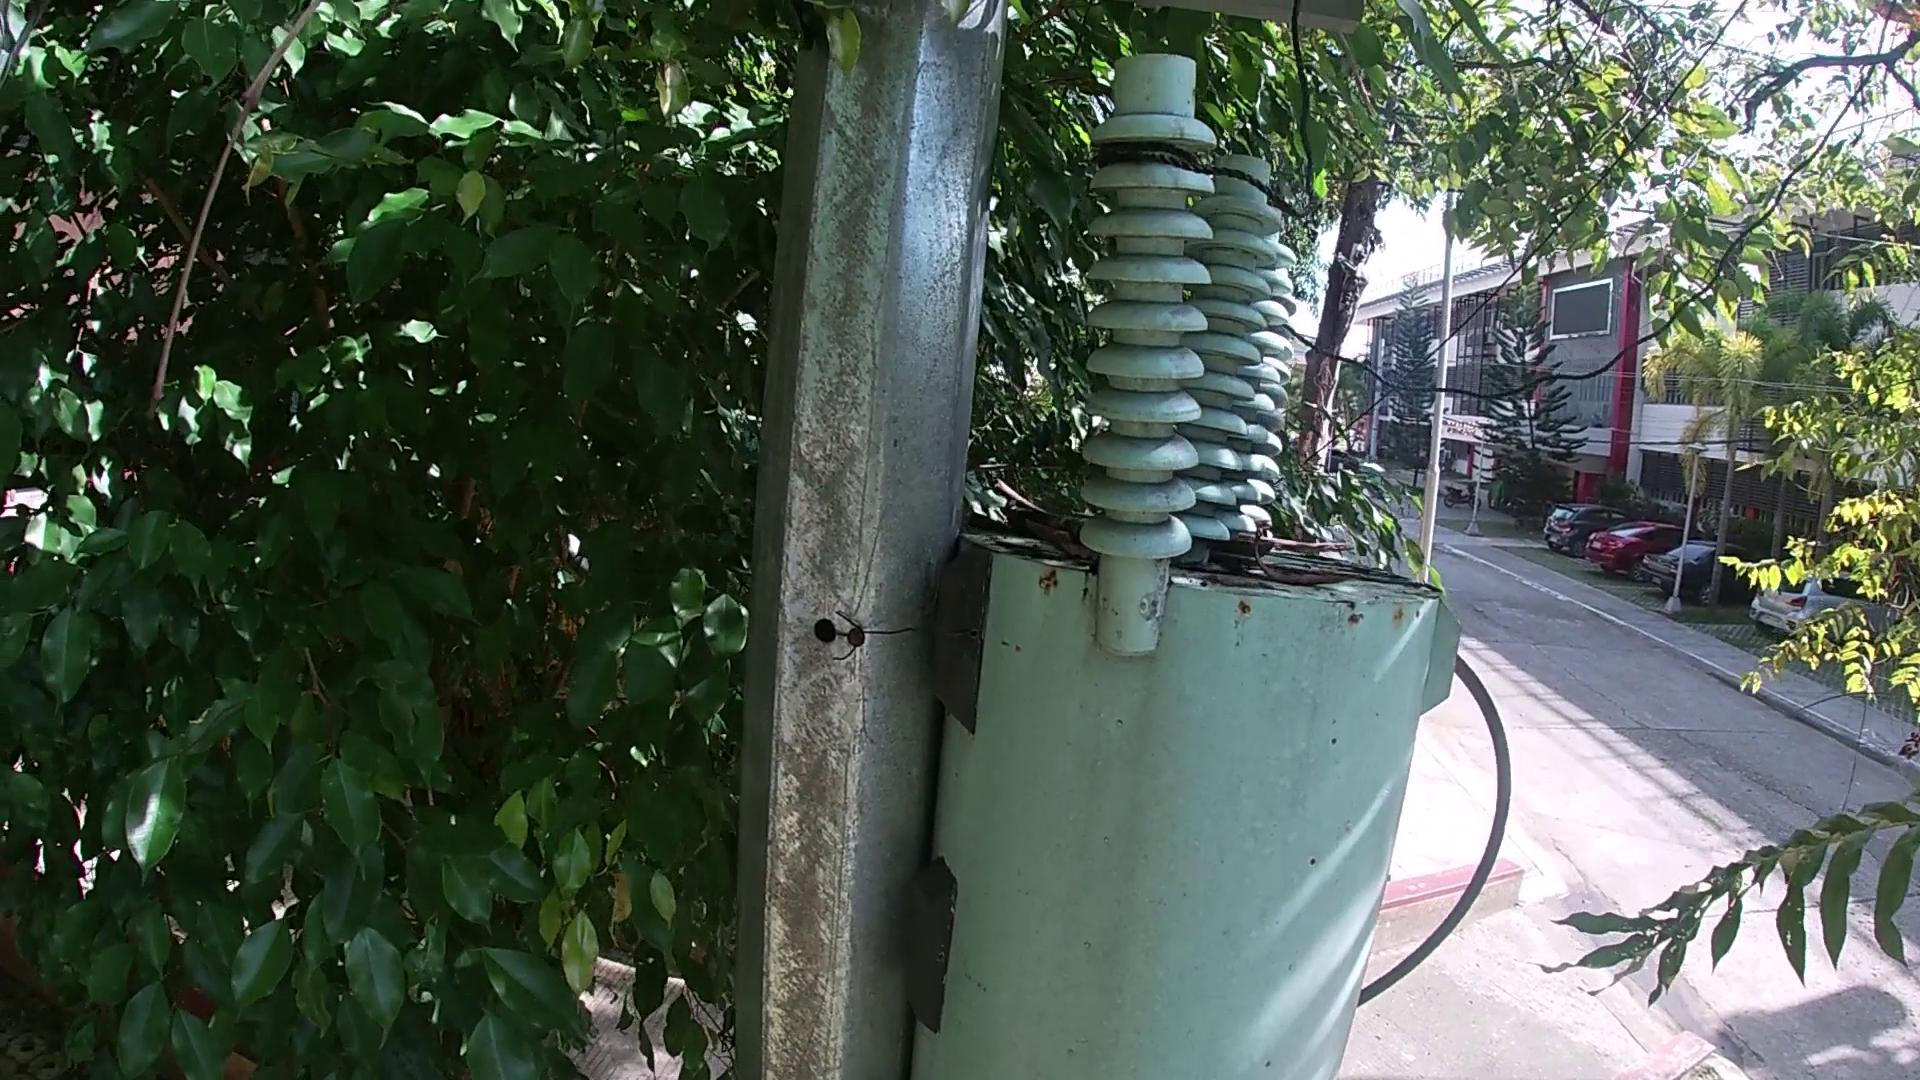mahogany fruit: (1247, 551, 1356, 587), (1217, 539, 1276, 559)
tree branch: (1247, 525, 1362, 555), (997, 500, 1092, 531), (981, 472, 1040, 520)
